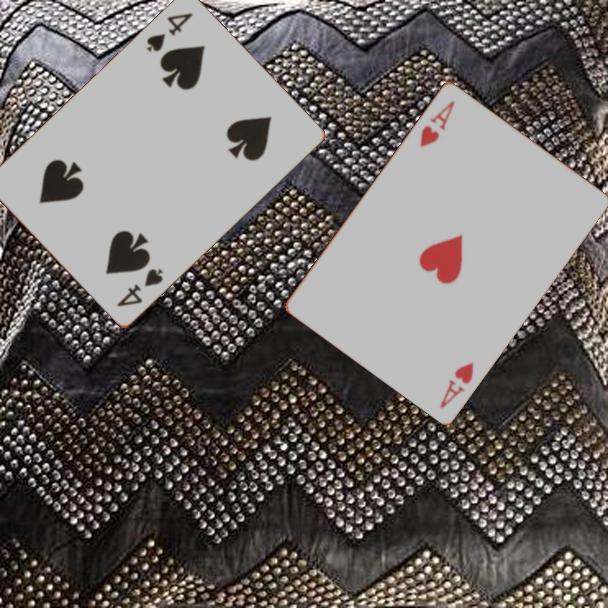h01: (416, 97, 458, 150), (436, 358, 477, 411)
s04: (143, 10, 196, 56), (113, 265, 166, 310)
